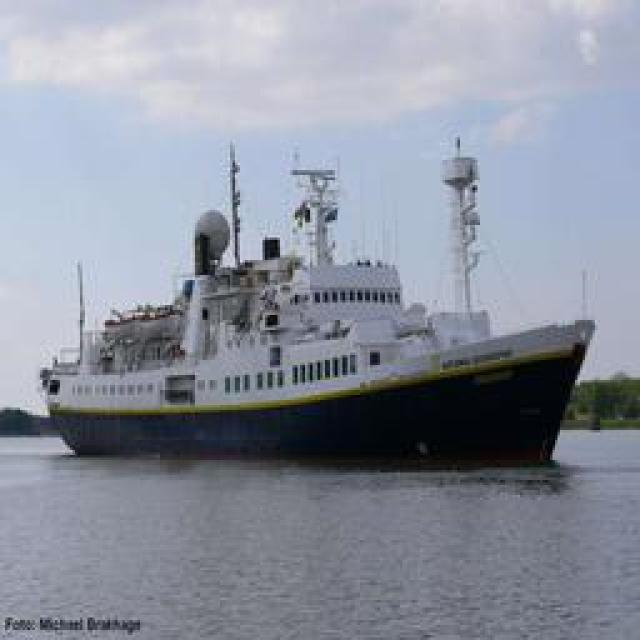CIV_Ship: (38, 125, 590, 463)
